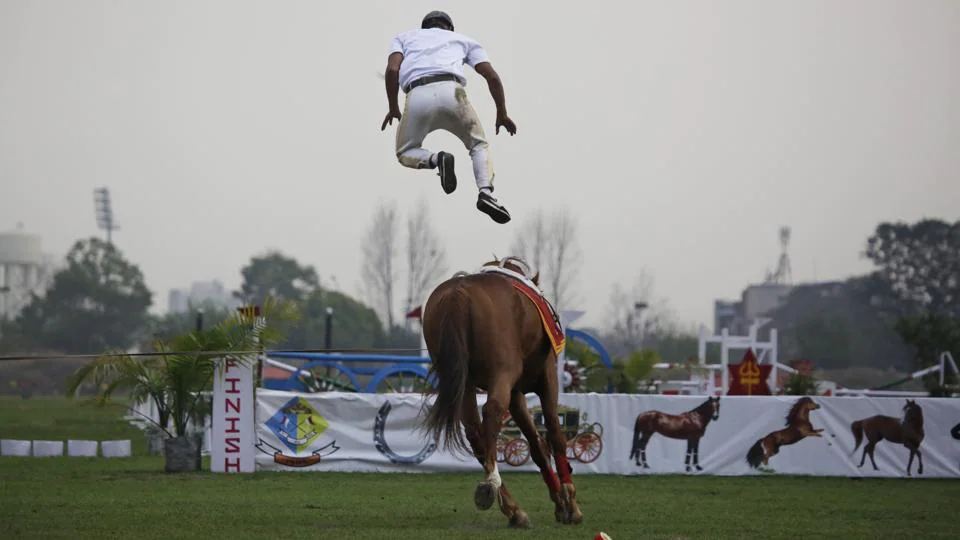human: (377, 1, 530, 228)
